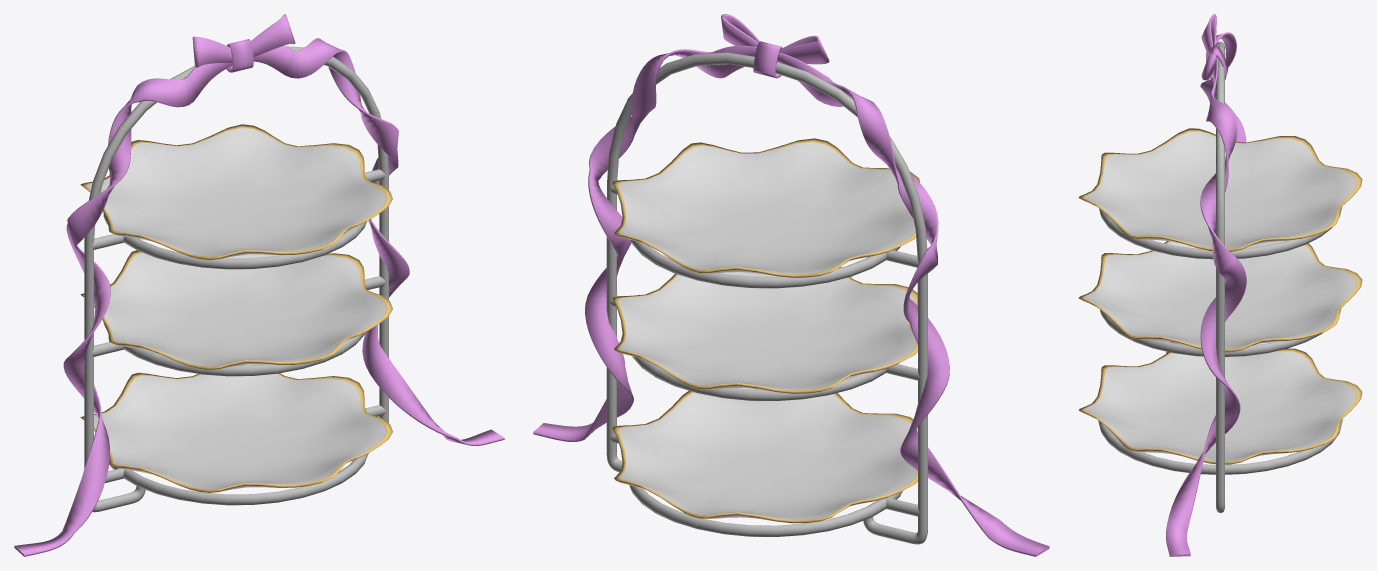
File: Fruit_tray.fbx
3 renders of one model, left to right at view 1: azimuth 30°, elevation 25°; view 2: azimuth 150°, elevation 25°; view 3: azimuth 270°, elevation 25°, orthographic. The views are drawn at different scales.
Visible parts, largest first — view 1: AfternoonDish.003, AfternoonDish.004, AfternoonDish.002, Ribbon, AfternoonTeaStand; view 2: AfternoonDish.003, AfternoonDish.004, AfternoonDish.002, Ribbon, AfternoonTeaStand; view 3: AfternoonDish.003, AfternoonDish.004, AfternoonDish.002, AfternoonTeaStand, Ribbon.
Boxes of the visible parts, x1=… form: AfternoonDish.003: x1=80, y1=124, x2=392, y2=260; AfternoonDish.004: x1=80, y1=364, x2=392, y2=492; AfternoonDish.002: x1=80, y1=250, x2=392, y2=370; Ribbon: x1=14, y1=14, x2=504, y2=556; AfternoonTeaStand: x1=84, y1=46, x2=388, y2=512; AfternoonDish.003: x1=612, y1=138, x2=919, y2=277; AfternoonDish.004: x1=612, y1=390, x2=917, y2=523; AfternoonDish.002: x1=612, y1=266, x2=917, y2=393; Ribbon: x1=533, y1=14, x2=1049, y2=556; AfternoonTeaStand: x1=606, y1=52, x2=927, y2=544; AfternoonDish.003: x1=1078, y1=128, x2=1362, y2=251; AfternoonDish.004: x1=1078, y1=348, x2=1362, y2=464; AfternoonDish.002: x1=1078, y1=240, x2=1362, y2=352; AfternoonTeaStand: x1=1098, y1=41, x2=1342, y2=513; Ribbon: x1=1166, y1=14, x2=1246, y2=556.
Size of the model in its own units: 111 by 101 by 62.2.
